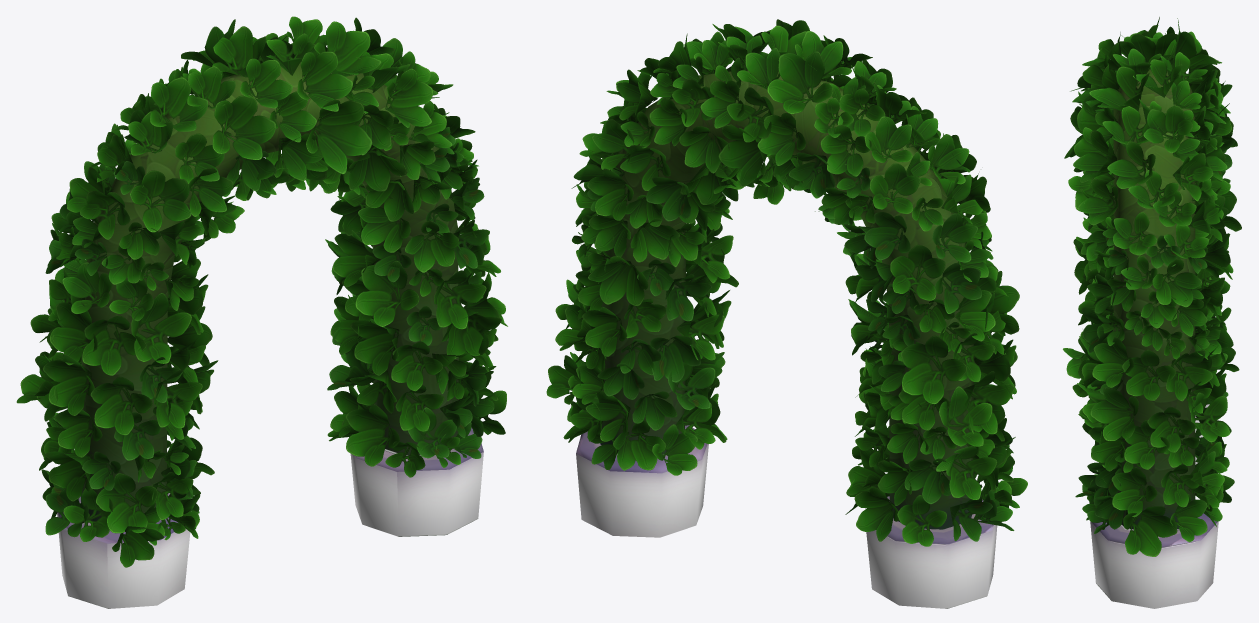
Rendered from SE_Gate_01b.fbx.
3 renders of one model, left to right at view 1: azimuth 30°, elevation 25°; view 2: azimuth 150°, elevation 25°; view 3: azimuth 270°, elevation 25°, orthographic. The views are drawn at different scales.
Parts seen in each view (by area): view 1: SE_Gate_01b; view 2: SE_Gate_01b; view 3: SE_Gate_01b.
Part boxes in pixels (left/top/right/bottom): SE_Gate_01b: left=16, top=16, right=507, bottom=608; SE_Gate_01b: left=546, top=19, right=1027, bottom=608; SE_Gate_01b: left=1063, top=17, right=1241, bottom=608.
Size of the model in its own units: 7.55 by 8.38 by 2.85.
